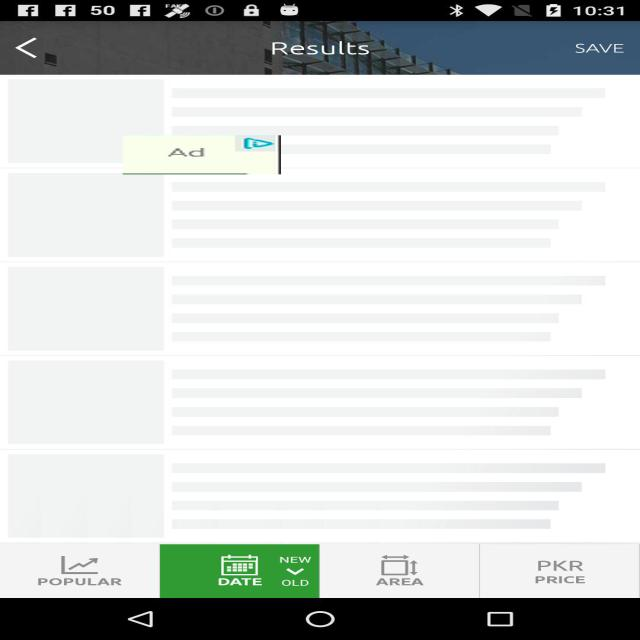sneaking: (123, 136, 281, 174)
